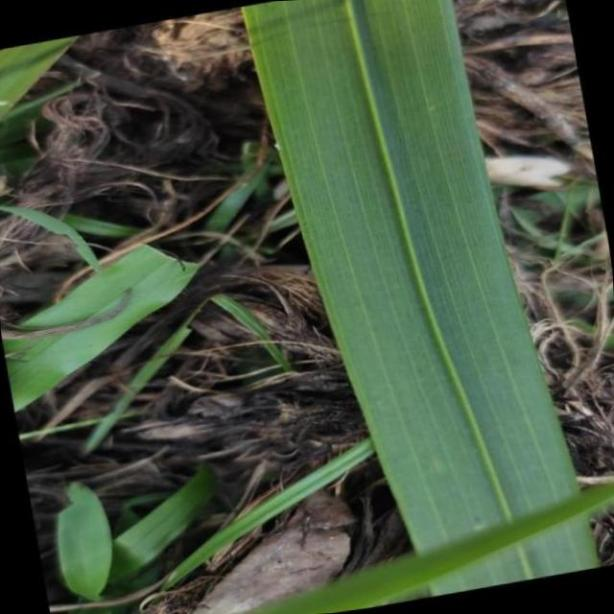Healthy: (240, 0, 612, 598)
